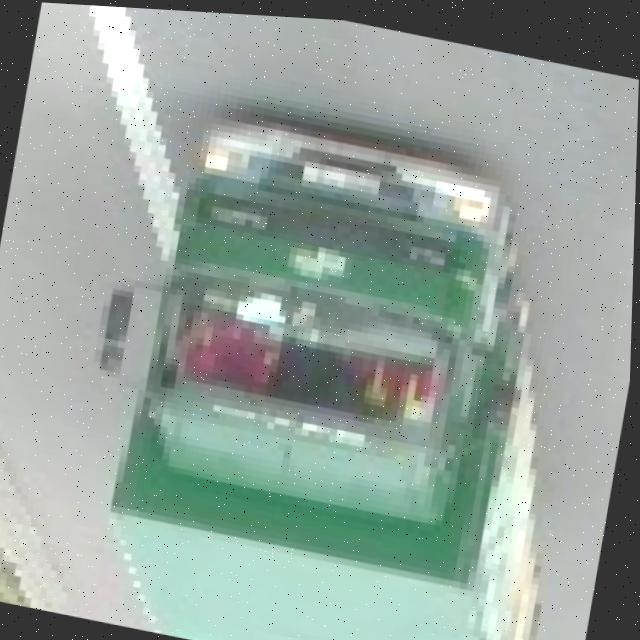truck: (61, 92, 624, 640)
